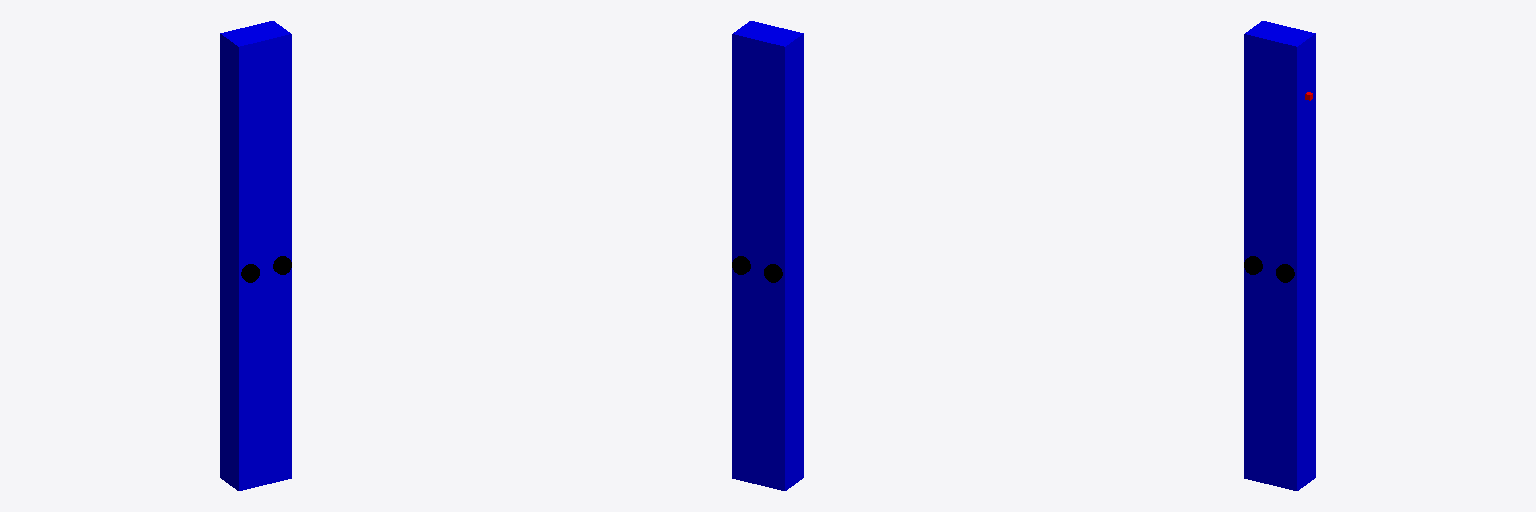
robot.urdf — car:
<?xml version="1.0"?>
<robot name = "car" xmlns:xacro="http://www.ros.org/wiki/xacro">



    <link name="base_link">
        <visual>
            <geometry>
                <!-- ox size = "1.0 0.6 0.4" -->
                <box size = "1.0 0.6 8" />
            </geometry>
            <material name = "blue">
                <color rgba = "0 0 1 1" />
            </material>
        </visual>
        <collision>
            <geometry>
                <box size= "1.0 0.6 0.4" />
            </geometry>
        </collision>
        <inertial>
            <mass value= "50.0" />
            <origin xyz= "0 0 0" rpy = "0 0 0" />
            <inertia ixx= "0.1" ixy= "0.0" ixz= "0.0" iyy= "0.1" iyz= "0.0" izz= "0.1" />
        </inertial>
    </link>

    <!-- front_left_wheel -->
    <link name="front_left_wheel">
        <visual>
            <geometry>
                <cylinder length= "0.1" radius= "0.15" />
            </geometry>
            <material name = "black">
                <color rgba = "0 0 0 1" />
            </material>
        </visual>
        <collision>
            <geometry>
                <cylinder length= "0.1" radius= "0.15" />
            </geometry>
        </collision>
        <inertial>
            <mass value= "1.0" />
            <origin xyz= "0 0 0" rpy = "0 0 0" />
            <inertia ixx= "0.01" ixy= "0.0" ixz= "0.0" iyy= "0.0" iyz= "0.0" izz= "0.01" />
        </inertial>
    </link>

    <!-- front_right_wheel -->
    <link name="front_right_wheel">
        <visual>
            <geometry>
                <cylinder length= "0.1" radius= "0.15" />
            </geometry>
            <material name = "black">
                <color rgba = "0 0 0 1" />
            </material>
        </visual>
        <collision>
            <geometry>
                <cylinder length= "0.1" radius= "0.15" />
            </geometry>
        </collision>
        <inertial>
            <mass value= "1.0" />
            <origin xyz= "0 0 0" rpy = "0 0 0" />
            <inertia ixx= "0.01" ixy= "0.0" ixz= "0.0" iyy= "0.0" iyz= "0.0" izz= "0.01" />
        </inertial>
    </link>

    <!-- rear_left_wheel -->
    <link name="rear_left_wheel">
        <visual>
            <geometry>
                <cylinder length= "0.1" radius= "0.15" />
            </geometry>

            <material name = "black">
                <color rgba = "0 0 0 1" />
            </material>
        </visual>
        <collision>
            <geometry>
                <cylinder length= "0.1" radius= "0.15" />
            </geometry>
        </collision>
        <inertial>
            <mass value= "1.0" />
            <origin xyz= "0 0 0" rpy = "0 0 0" />
            <inertia ixx= "0.01" ixy= "0.0" ixz= "0.0" iyy= "0.0" iyz= "0.0" izz= "0.01" />
        </inertial>
    </link>

    <!-- rear_right_wheel -->
    <link name="rear_right_wheel">
        <visual>
            <geometry>
                <cylinder length= "0.1" radius= "0.15" />
            </geometry>

            <material name = "black">
                <color rgba = "0 0 0 1" />
            </material>
        </visual>
        <collision>
            <geometry>
                <cylinder length= "0.1" radius= "0.15" />
            </geometry>
        </collision>
        <inertial>
            <mass value= "1.0" />
            <origin xyz= "0 0 0" rpy = "0 0 0" />
            <inertia ixx= "0.01" ixy= "0.0" ixz= "0.0" iyy= "0.0" iyz= "0.0" izz= "0.01" />
        </inertial>
    </link>

    <link name= "dummy">
    </link>

    <joint name= "dummy_joint" type= "fixed">
        <parent link= "dummy" />
        <child link= "base_link" />
    </joint>

    <!-- JOINTS -->

    <joint name="front_left_wheel_joint" type= "continuous">
        <parent link= "base_link"/>
        <child link= "front_left_wheel"/>
        <origin xyz= "0.3 0.35 -0.1" rpy= "-1.57 0 0"/>
        <axis xyz= "0 0 1"/> 

        <dynamics damping="1.0" friction="1.0"/>
    </joint>

    <joint name="front_right_wheel_joint" type= "continuous">
        <parent link= "base_link"/>
        <child link= "front_right_wheel"/>
        <origin xyz= "0.3 -0.35 -0.1" rpy= "-1.57 0 0"/>
        <axis xyz= "0 0 1"/> 

        <dynamics damping="1.0" friction="1.0"/>
    </joint>

    <joint name="rear_left_wheel_joint" type= "continuous">
        <parent link= "base_link"/>
        <child link= "rear_left_wheel"/>
        <origin xyz= "-0.3 0.35 -0.1" rpy= "-1.57 0 0"/>
        <axis xyz= "0 0 1"/> 

        <dynamics damping="1.0" friction="1.0"/>
    </joint>

    <joint name="rear_right_wheel_joint" type= "continuous">
        <parent link= "base_link"/>
        <child link= "rear_right_wheel"/>
        <origin xyz= "-0.3 -0.35 -0.1" rpy= "-1.57 0 0"/>
        <axis xyz= "0 0 1"/> 

        <dynamics damping="1.0" friction="1.0"/>
    </joint>

    <!--car controller-->
    <gazebo>
        <plugin name= "skid_steer_drive_controller" filename= "libgazebo_ros_skid_steer_drive.so">
            <updateRate>100.0</updateRate>
            <robotNamespace></robotNamespace>

            <leftFrontJoint>front_left_wheel_joint</leftFrontJoint>
            <rightFrontJoint>front_right_wheel_joint</rightFrontJoint>
            <leftRearJoint>rear_left_wheel_joint</leftRearJoint>
            <rightRearJoint>rear_right_wheel_joint</rightRearJoint>

            <wheelSeparation>0.7</wheelSeparation>
            <wheelDiameter>0.3</wheelDiameter>
            
            <torque>10</torque>

            <commandTopic>cmd_vel</commandTopic>

            <odometryTopic>odom</odometryTopic>

            <odometryFrame>odom</odometryFrame>

            <robotBaseFrame>dummy</robotBaseFrame>

            <publishWheelTF>true</publishWheelTF>

            <publishOdom>true</publishOdom>

            <publishWheelJointState>true</publishWheelJointState>

            <covariance_x>0.0001</covariance_x>
            <covariance_y>0.0001</covariance_y>
            <covariance_yaw>0.01</covariance_yaw>

        </plugin>
    </gazebo>
    


    <gazebo reference= "base_link">
        <material>Gazebo/Blue</material>
        <mu1>0.2</mu1>
        <mu2>0.2</mu2>
    </gazebo>

    <gazebo reference= "front_left_wheel">
        <material>Gazebo/Black</material>
        <mu1>0.2</mu1>
        <mu2>0.2</mu2>
    </gazebo>
    <gazebo reference= "front_right_wheel">
        <material>Gazebo/Black</material>
        <mu1>0.2</mu1>
        <mu2>0.2</mu2>
    </gazebo>
    <gazebo reference= "rear_left_wheel">
        <material>Gazebo/Black</material>
        <mu1>0.2</mu1>
        <mu2>0.2</mu2>
    </gazebo>
    <gazebo reference= "rear_right_wheel">
        <material>Gazebo/Black</material>
        <mu1>0.2</mu1>
        <mu2>0.2</mu2>
    </gazebo>

    <gazebo reference= "camera_link">
        <material>Gazebo/Red</material>
        
    </gazebo>


    <!-- depth camera imitation of sonar, taken from the box.urdf code -->
    <link name= "depth_camera_link">
        <visual>
            <geometry> 
                <box size= "0.1 0.1 0.1" />
            </geometry>
            <material name= "red" >
                <color rgba= "1 0 0 1" />
            </material>
        </visual>
        <inertial>
            <mass value= "0.2" />
            <origin xyz= "0 0 0" />
            <inertia ixx= "0.1" ixy= "0.0" ixz= "0.0" iyy= "0.1" iyz= "0.0" izz= "0.1" />
        </inertial>
        <collision>
            <geometry>
                <box size= "0.1 0.1 0.1" />
            </geometry>
        </collision>
    </link>

    <joint name= "depth_camera_joint" type= "fixed">
        <parent link= "base_link" />
        <child link= "depth_camera_link" />
        <origin xyz= "0.55 0 3 " rpy= "0 0 0"/>
    </joint> 

    <!-- optical link and joint for rviz -->
    <link name= "depth_camera_optical_link"></link>

    <joint name= "depth_camera_optical_joint" type= "fixed">
        <parent link= "depth_camera_link" />
        <child link= "depth_camera_optical_link" />
        <origin xyz= "0 0 0 " rpy= "-1.57 0 -1.57"/>
    </joint>

    <gazebo reference= "depth_camera_link">
        <material>Gazebo/Red</material>
        <sensor name= "depth_camera_link" type= "depth">
            <visualize>true</visualize>
            <updateRate>10</updateRate>
            <camera>
                <horizontal_fov>0.785</horizontal_fov> 
                <vertical_fov>0.785</vertical_fov>   
                <image>
                    <width>10</width>
                    <height>10</height>
                </image>
                <clip>
                    <near>0.1</near>
                    <far>5.0</far>
                </clip>
            </camera>
            <plugin name="depth_camera_sensor" filename="libgazebo_ros_openni_kinect.so">
                <cameraName>depth_camera</cameraName>
                <frameName>depth_camera_optical_link</frameName>
                <alwaysOn>true</alwaysOn>
                <pointCloudTopicName>points</pointCloudTopicName>
                
                <imageTopicName>rgb/image_raw</imageTopicName>
                <depthImageTopicName>depth/image_raw</depthImageTopicName>
                <cameraInfoTopicName>rgb/camera_info</cameraInfoTopicName>
                <depthImageCameraInfoTopicName>depth/camera_info</depthImageCameraInfoTopicName>
                
                <!-- <baseline>0.1</baseline> -->
                <!-- <hfov>1.0472</hfov> 
                <vfov>1.0472</vfov>  -->
            </plugin>
        </sensor>
    </gazebo>

    </robot>

    
    <!-- <gazebo>
    <plugin name="differential_drive_controller" filename="libgazebo_ros_diff_drive.so">
        <commandTopic>cmd_vel</commandTopic>
        <odometryTopic>odom</odometryTopic>
        <odometryFrame>odom</odometryFrame>
        <robotBaseFrame>base_link</robotBaseFrame>
        <publishWheelTF>true</publishWheelTF>
        <publishWheelJointState>true</publishWheelJointState>
        <wheelSeparation>0.7</wheelSeparation> 
        <wheelDiameter>0.3</wheelDiameter> 
        <torque>10.0</torque> 
        <updateRate>10.0</updateRate>

        <leftJoint>front_left_wheel_joint</leftJoint>
        <rightJoint>front_right_wheel_joint</rightJoint>
    </plugin>
    </gazebo> -->

<!-- - - - - - - - - - - - - - - - - - - - - - - - - - - - - - - - - - - - - - - - - - - - - - - - - - - - -->
  
    <!-- camera -->
    <!-- <link name= "camera_link">
        <visual>
            <geometry> 
                <box size= "0.1 0.1 0.1" />
            </geometry>
            <material name= "red" >
                <color rgba= "1 0 0 1" />
            </material>
        </visual>
        <inertial>
            <mass value= "0.2" />
            <origin xyz= "0 0 0" />
            <inertia ixx= "0.1" ixy= "0.0" ixz= "0.0" iyy= "0.1" iyz= "0.0" izz= "0.1" />
        </inertial>
        <collision>
            <geometry>
                <box size= "0.1 0.1 0.1" />
            </geometry>
        </collision>
    </link>


    <joint name= "camera_joint" type= "fixed">
        <parent link= "base_link" />
        <child link= "camera_link" />
        <origin xyz= "0.4 0 0.25 " rpy= "0 0 0"/>
    </joint> 

    <link name= "camera_link_optical"></link>

    <joint name= "camera_optical_joint" type= "fixed">
        <parent link= "camera_link" />
        <child link= "camera_link_optical" />
        <origin xyz= "0 0 0 " rpy= "-1.57 0 -1.57"/>
    </joint> 

    <gazebo reference= "camera_link">
        <material>Gazebo/Red</material>
        <sensor type= "camera" name= "camera_sensor">
            <pose>0 0 0 0 0 0</pose>
            <visualize>false</visualize>
            <update_rate>30</update_rate>
            <camera>
                <horizontal_fov>1.047</horizontal_fov>
                <image>
                    <width>640</width>
                    <height>480</height>
                    <format>R8G8B8</format>
                </image>
                <clip>
                    <near>0.1</near>
                    <far>10</far>
                </clip>
            </camera>
            <plugin name= "camera_controller" filename= "libgazebo_ros_camera.so" >
                <frameName>camera_link_optical</frameName>
                <alwaysOn>true</alwaysOn>
                <updateRate>0.0</updateRate>
                <cameraName>camera</cameraName>
                <imageTopicName>image_raw</imageTopicName>
                <cameraInfoTopicName>camera_info</cameraInfoTopicName>
            </plugin>
        </sensor>
    </gazebo> -->

--- Render facts (derived) ---
The picture shows the robot from 3 angles, left to right: view 1: azimuth 30°, elevation 25°; view 2: azimuth 150°, elevation 25°; view 3: azimuth 330°, elevation 25°; orthographic projection.
Model car with 8 links and 7 joints (4 continuous, 3 fixed), rooted at dummy, posed all joints at 0.
Visible links, largest first — view 1: base_link; view 2: base_link; view 3: base_link.
Link boxes in pixels (box(x1,y1,x2,y2)): base_link: box(220, 21, 291, 490); base_link: box(732, 21, 803, 490); base_link: box(1244, 21, 1315, 490).
Size in the robot's own frame: 1.1 by 0.8002 by 8 metres.
Geometry: primitives only (box / cylinder / sphere), no mesh files.
